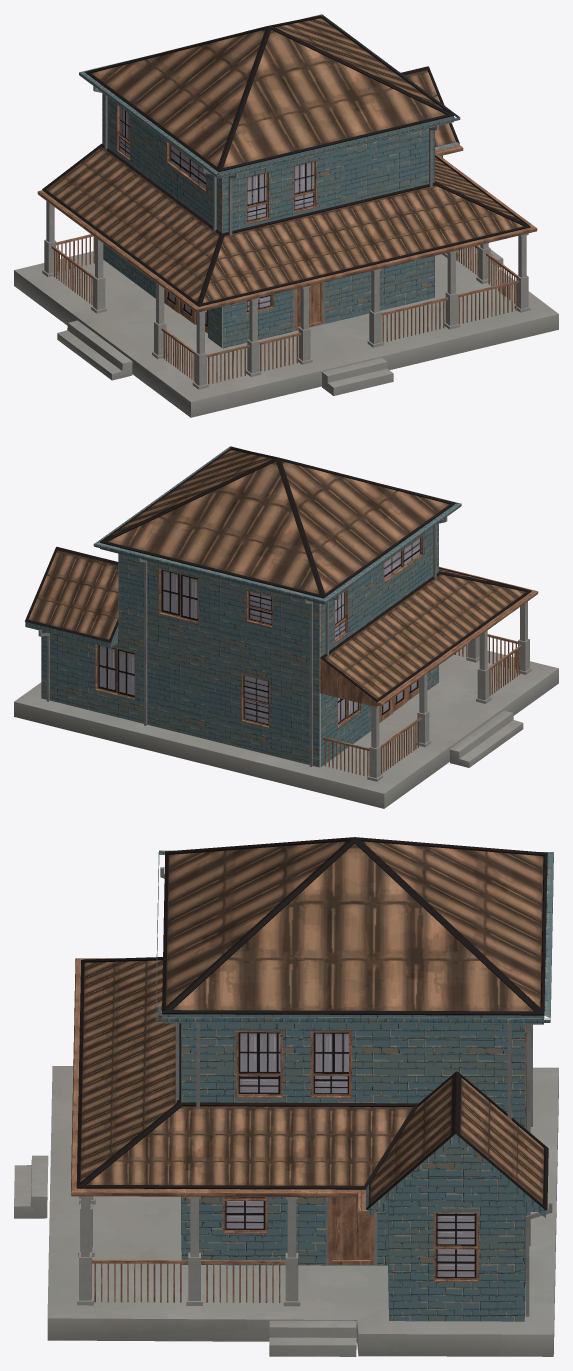
Rendered from Building2.fbx.
3 renders of one model, top to bottom at view 1: azimuth 30°, elevation 25°; view 2: azimuth 150°, elevation 25°; view 3: azimuth 270°, elevation 25°, orthographic. The views are drawn at different scales.
Parts seen in each view (by area): view 1: House; view 2: House; view 3: House.
Part boxes in pixels (x1=…): House: x1=14, y1=14, x2=558, y2=417; House: x1=14, y1=446, x2=558, y2=808; House: x1=14, y1=837, x2=558, y2=1356.
Size of the model in its own units: 1333 by 833 by 1085.
8 materials, 8 textured.
